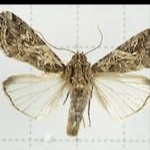Spodoptera litura: (0, 10, 149, 137)
